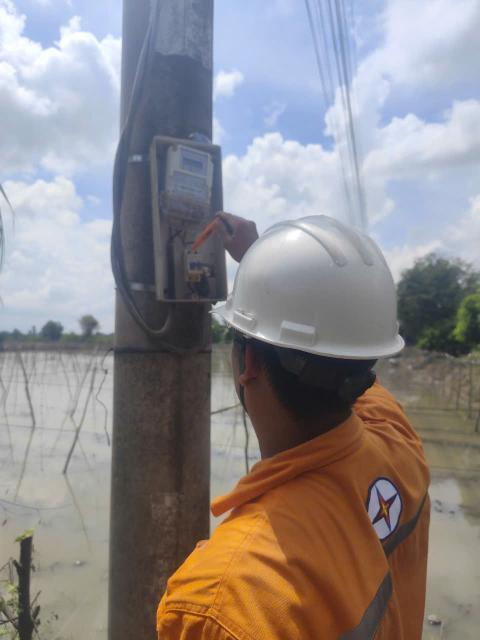helmet: (181, 188, 431, 391)
